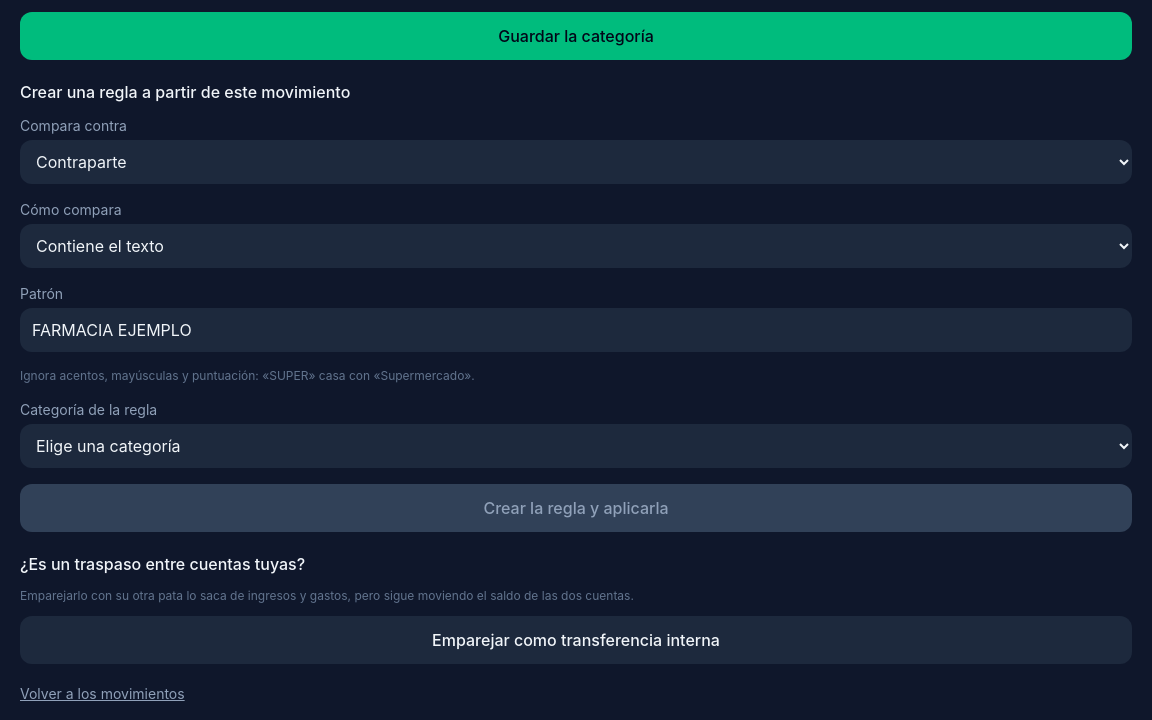
TransactionScreen · crear una regla › reporta la regla vieja que se ha saltado sin presentarlo como un fallo
(page scrolled)
Select "Salud" in the dropdown labelled "Categoría de la regla" at (576, 446), box [20,424,1132,468]
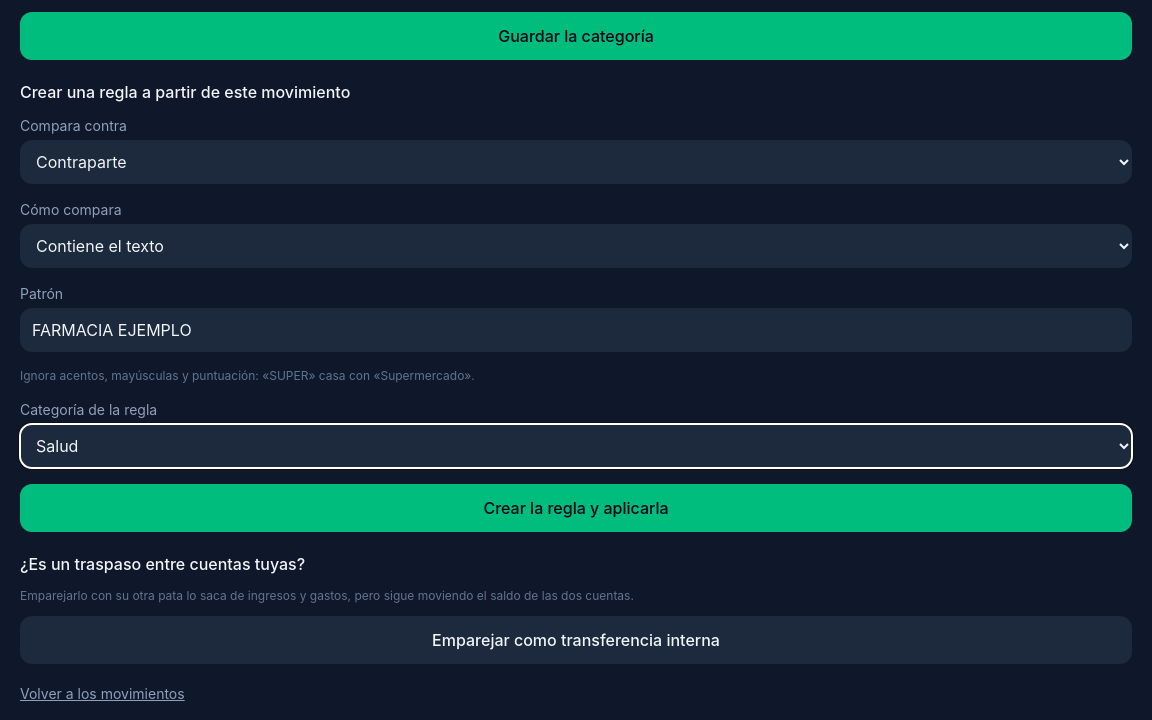
Click the button "Crear la regla y aplicarla" at (576, 508), box [20,484,1132,532]
(page scrolled)
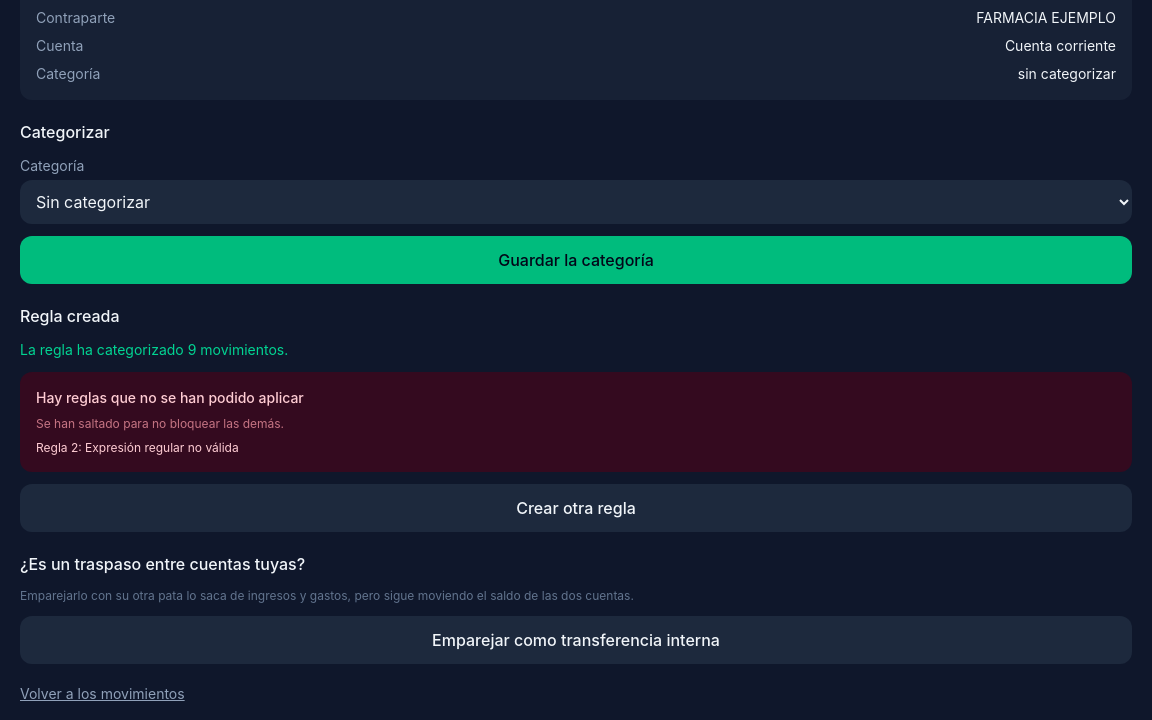
Expected: the text "La regla ha categorizado 9 movimientos." is shown, [20,341,288,358]
Expected: the message shows "Regla 2: Expresión regular no válida", [20,372,1132,472]
